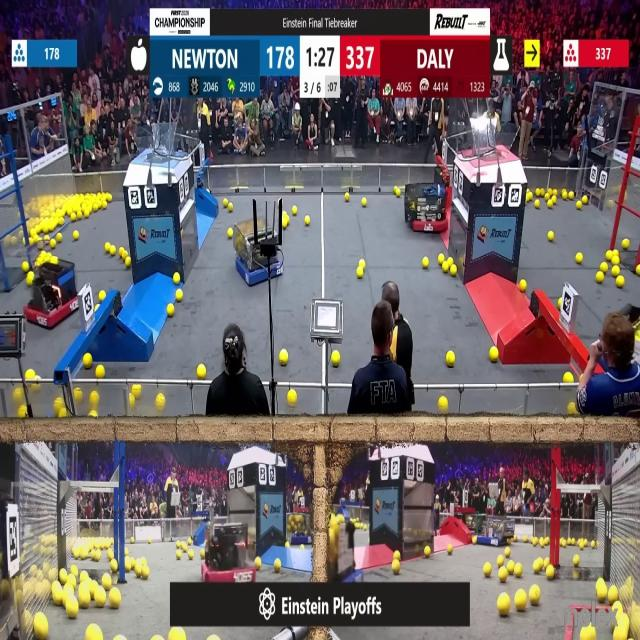ball_ground: (498, 593, 511, 615), (516, 593, 528, 612), (528, 588, 540, 606), (109, 590, 120, 609), (594, 581, 604, 601), (67, 600, 78, 618), (78, 592, 90, 608), (95, 591, 106, 608), (89, 626, 102, 640), (607, 588, 617, 604), (584, 627, 596, 640), (198, 363, 207, 378), (158, 394, 166, 410), (490, 348, 499, 362), (440, 396, 449, 410), (498, 568, 507, 582), (567, 404, 576, 418), (288, 390, 296, 405), (83, 353, 91, 368), (103, 574, 112, 587), (447, 352, 455, 366), (280, 350, 288, 364), (392, 560, 400, 574), (545, 566, 553, 579), (484, 563, 492, 576), (18, 408, 26, 421), (92, 391, 100, 404), (564, 373, 573, 384), (331, 352, 338, 366), (97, 364, 105, 376), (141, 567, 149, 579), (516, 564, 523, 577), (61, 569, 68, 582), (59, 410, 68, 420), (27, 367, 35, 378), (596, 273, 604, 284), (110, 561, 118, 572), (610, 254, 618, 265), (618, 276, 625, 288), (275, 559, 282, 571), (176, 289, 183, 301), (168, 305, 175, 317), (422, 256, 429, 268), (123, 560, 130, 572), (79, 571, 87, 581), (507, 560, 513, 573), (575, 252, 582, 263), (611, 267, 618, 278), (520, 280, 526, 292), (254, 558, 260, 570), (451, 266, 457, 278), (28, 273, 34, 285), (118, 248, 126, 257), (623, 240, 630, 250), (356, 269, 363, 279), (497, 556, 504, 566), (126, 257, 133, 267), (526, 190, 533, 200), (71, 566, 78, 576), (174, 274, 180, 285), (424, 545, 430, 556), (533, 562, 539, 573), (443, 265, 450, 274), (604, 251, 611, 260), (58, 216, 65, 225), (547, 232, 553, 242), (601, 264, 607, 274), (100, 290, 106, 300), (572, 556, 578, 566), (110, 246, 116, 256), (108, 550, 114, 560), (360, 261, 366, 271), (394, 552, 400, 561), (176, 551, 182, 560), (534, 200, 540, 209), (50, 240, 56, 249), (560, 538, 566, 547), (448, 543, 453, 553), (24, 264, 29, 274), (440, 254, 445, 264), (105, 243, 110, 253), (504, 548, 509, 558), (71, 212, 76, 222), (291, 207, 297, 215), (57, 235, 63, 243), (187, 552, 193, 560), (82, 210, 88, 218), (92, 412, 98, 420), (227, 230, 232, 239), (361, 199, 366, 208), (563, 189, 568, 198), (227, 204, 232, 213), (43, 235, 49, 242), (542, 558, 548, 565), (636, 266, 640, 276), (345, 192, 350, 200), (107, 192, 112, 200), (568, 190, 573, 198), (546, 201, 551, 209), (449, 256, 454, 264), (282, 219, 287, 227), (222, 201, 227, 209), (524, 535, 529, 543), (306, 216, 310, 225), (284, 541, 290, 547), (535, 188, 540, 195), (584, 198, 589, 205), (103, 202, 108, 209), (123, 547, 128, 554), (74, 233, 78, 241), (472, 536, 476, 544), (576, 202, 580, 210), (396, 188, 400, 196), (202, 552, 206, 560), (579, 540, 583, 548), (114, 636, 122, 640), (152, 636, 160, 640), (553, 197, 557, 205), (544, 193, 549, 199), (187, 539, 192, 545), (132, 536, 136, 543), (592, 540, 596, 547), (148, 537, 152, 543), (177, 540, 180, 548), (299, 543, 303, 549)
goal: (465, 120, 521, 160), (130, 130, 188, 160)
robot_blue: (234, 220, 284, 285), (476, 514, 508, 547), (286, 512, 314, 546)
robot_red: (25, 258, 78, 329), (201, 516, 253, 583), (404, 183, 448, 233), (462, 514, 482, 535)
